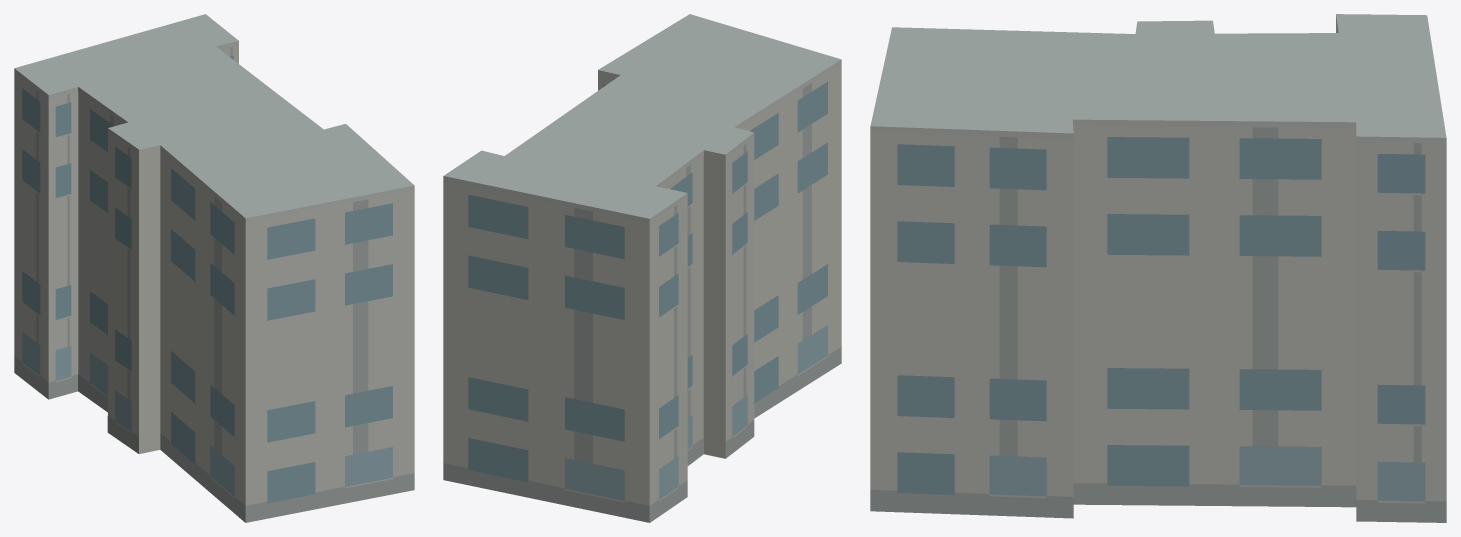
File: survey-upis-32805356.glb
The picture shows the model from 3 angles, left to right: view 1: azimuth 30°, elevation 25°; view 2: azimuth 150°, elevation 25°; view 3: azimuth 270°, elevation 25°; orthographic projection. The views are drawn at different scales.
Parts seen in each view (by area): view 1: survey-upis-32805356.tmp; view 2: survey-upis-32805356.tmp; view 3: survey-upis-32805356.tmp.
Boxes of the visible parts, x1,y1,x2,y2 form: survey-upis-32805356.tmp: [14, 14, 414, 522]; survey-upis-32805356.tmp: [443, 14, 841, 522]; survey-upis-32805356.tmp: [870, 14, 1446, 522].
Bounding box in the file's own units: 10.85 × 15.7 × 21.31.
